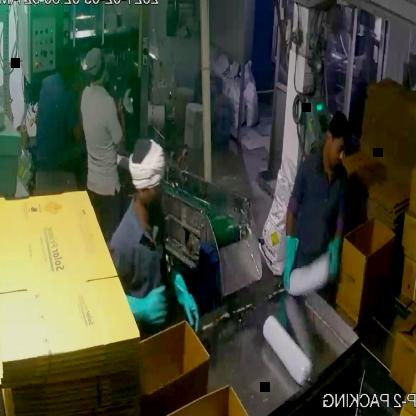glove: (120, 276, 172, 342), (166, 264, 203, 340), (274, 222, 304, 300), (320, 225, 352, 288), (112, 94, 132, 161)
